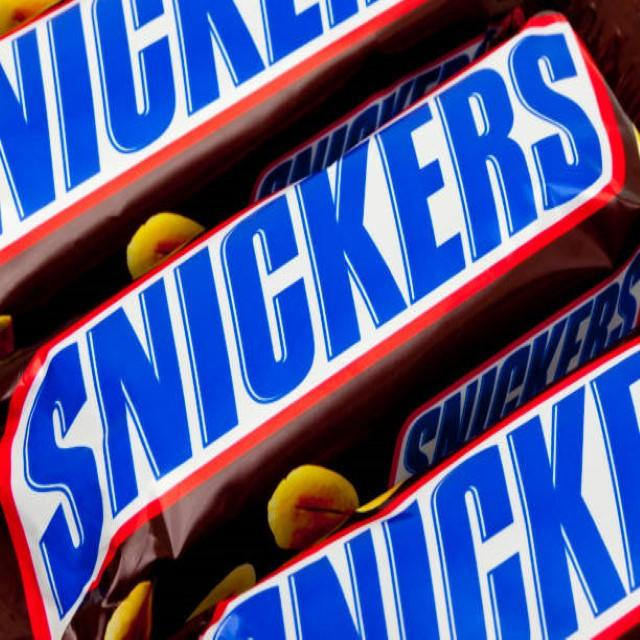snickers_chocolate: (12, 38, 628, 615)
